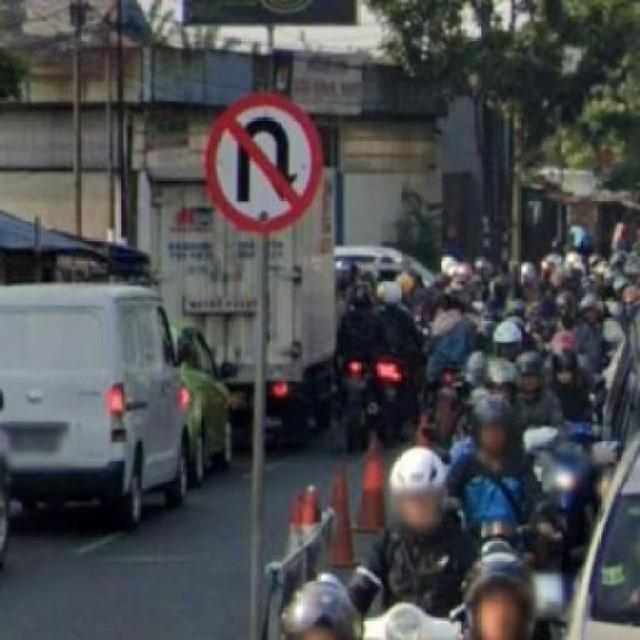u turn prohibited: (203, 88, 323, 233)
